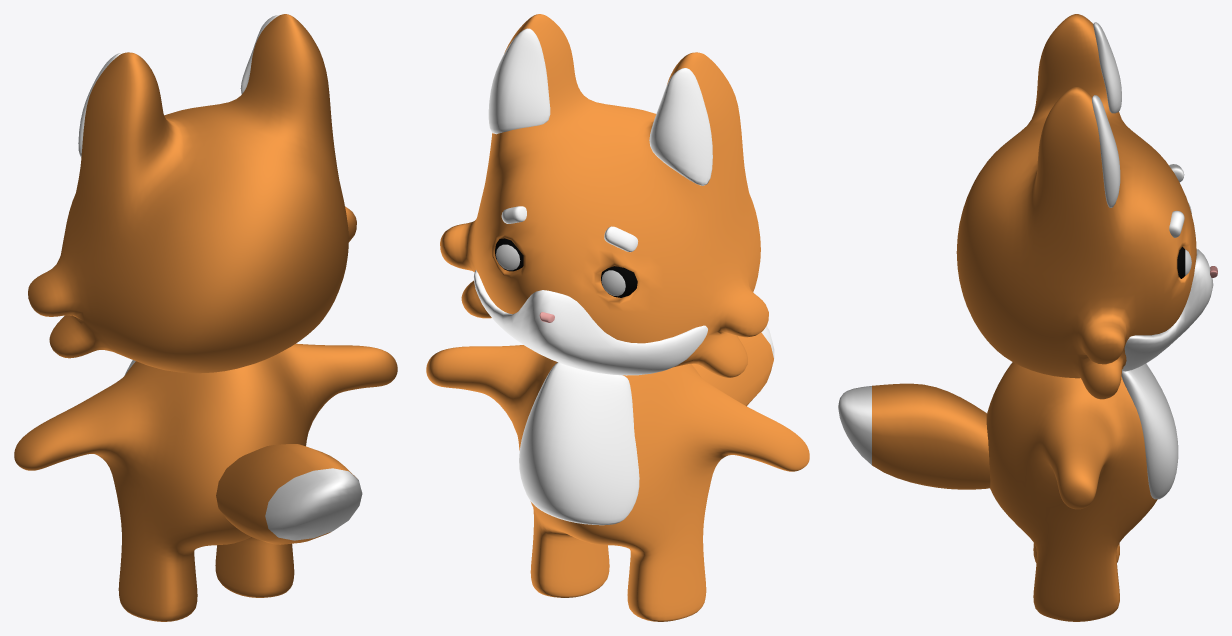
File: FinalFox.fbx
The picture shows the model from 3 angles, left to right: view 1: azimuth 30°, elevation 25°; view 2: azimuth 150°, elevation 25°; view 3: azimuth 270°, elevation 25°; orthographic projection. The views are drawn at different scales.
Parts seen in each view (by area): view 1: Cube.001; view 2: Cube.001; view 3: Cube.001.
Boxes of the visible parts, box(x1,y1,x2,y2) form: Cube.001: box(14, 14, 397, 621); Cube.001: box(426, 14, 809, 621); Cube.001: box(838, 14, 1217, 621).
Size of the model in its own units: 280 by 395 by 254.
